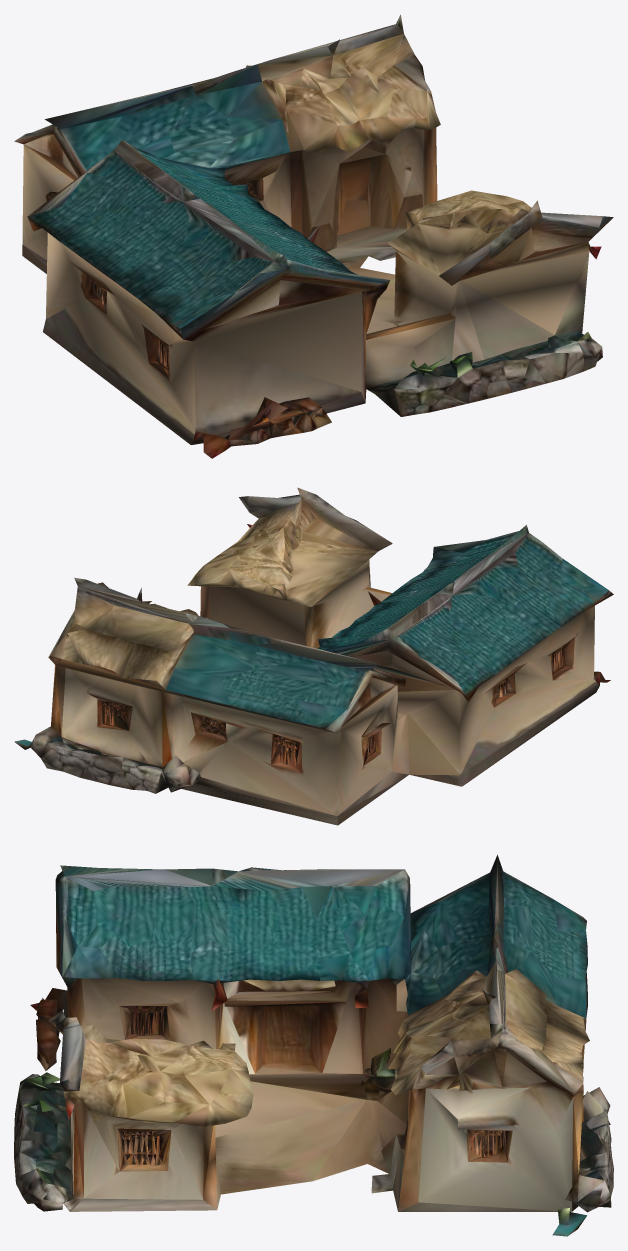
File: village.glb
3 renders of one model, top to bottom at view 1: azimuth 30°, elevation 25°; view 2: azimuth 150°, elevation 25°; view 3: azimuth 270°, elevation 25°, orthographic. The views are drawn at different scales.
Parts seen in each view (by area): view 1: tripo_node_5c29251a-d19b-4ab1-8bd4-096b7179a12f; view 2: tripo_node_5c29251a-d19b-4ab1-8bd4-096b7179a12f; view 3: tripo_node_5c29251a-d19b-4ab1-8bd4-096b7179a12f.
Boxes of the visible parts, x1,y1,x2,y2 form: tripo_node_5c29251a-d19b-4ab1-8bd4-096b7179a12f: (14, 14, 613, 458); tripo_node_5c29251a-d19b-4ab1-8bd4-096b7179a12f: (14, 487, 613, 825); tripo_node_5c29251a-d19b-4ab1-8bd4-096b7179a12f: (14, 854, 613, 1236).
Size of the model in its own units: 4.76 by 1.78 by 4.98.
Materials: 1 (1 with a texture image).
